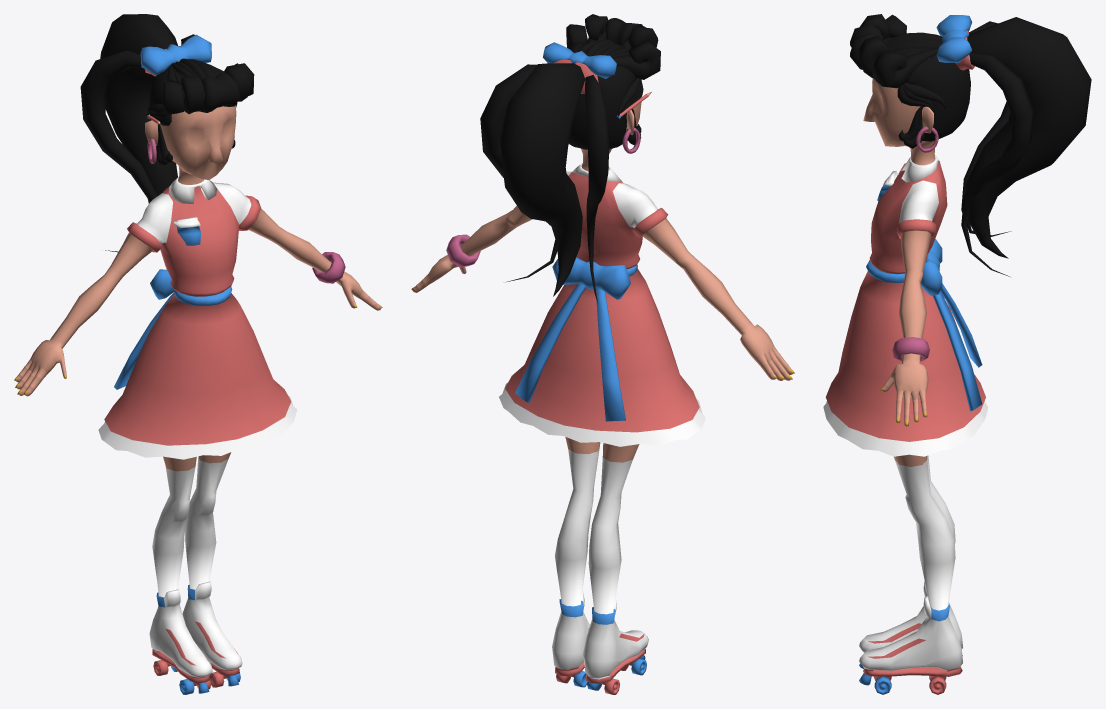
Rendered from AtendenteModelo.fbx.
3 views of the same model, side by side, from view 1: azimuth 30°, elevation 25°; view 2: azimuth 150°, elevation 25°; view 3: azimuth 270°, elevation 25° (orthographic). The views are drawn at different scales.
Visible parts, largest first — view 1: BezierCurve.002; view 2: BezierCurve.002; view 3: BezierCurve.002.
Part boxes in pixels (<box>): BezierCurve.002: <box>14,14,382,694</box>; BezierCurve.002: <box>411,14,794,694</box>; BezierCurve.002: <box>823,14,1091,694</box>.
Bounding box in the file's own units: 226 × 373 × 137.
